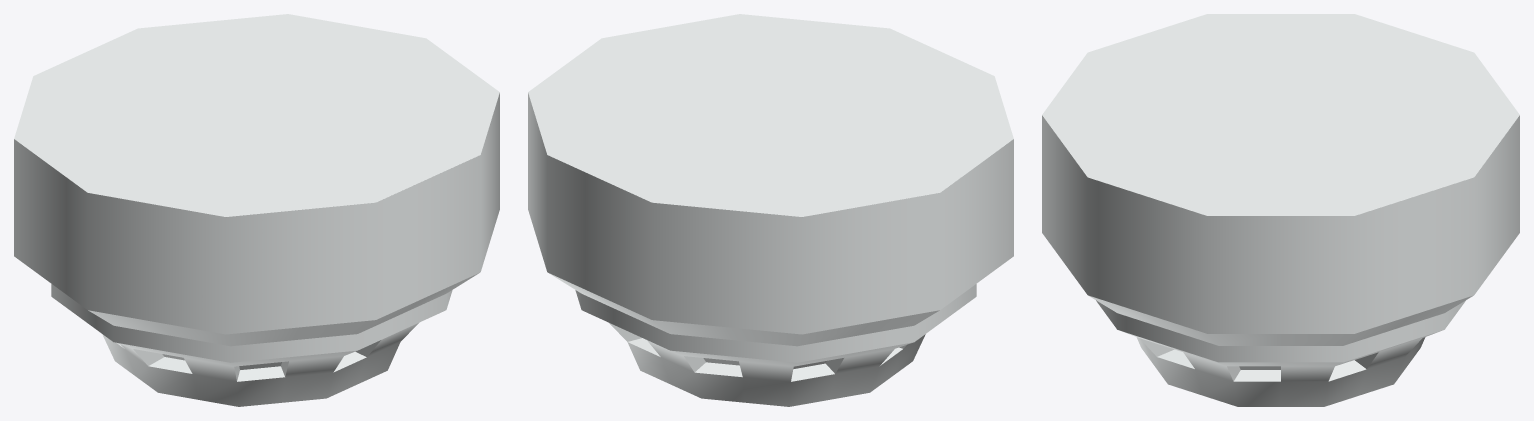
The model's file is SmokeDetector.fbx.
The picture shows the model from 3 angles, left to right: view 1: azimuth 30°, elevation 25°; view 2: azimuth 150°, elevation 25°; view 3: azimuth 270°, elevation 25°; orthographic projection.
Parts seen in each view (by area): view 1: SmokeDetector; view 2: SmokeDetector; view 3: SmokeDetector.
Boxes of the visible parts, bbox=[...] form: SmokeDetector: bbox=[14, 14, 499, 406]; SmokeDetector: bbox=[528, 14, 1013, 406]; SmokeDetector: bbox=[1042, 14, 1519, 406].
Bounding box in the file's own units: 10.5 × 5.9 × 10.5.
